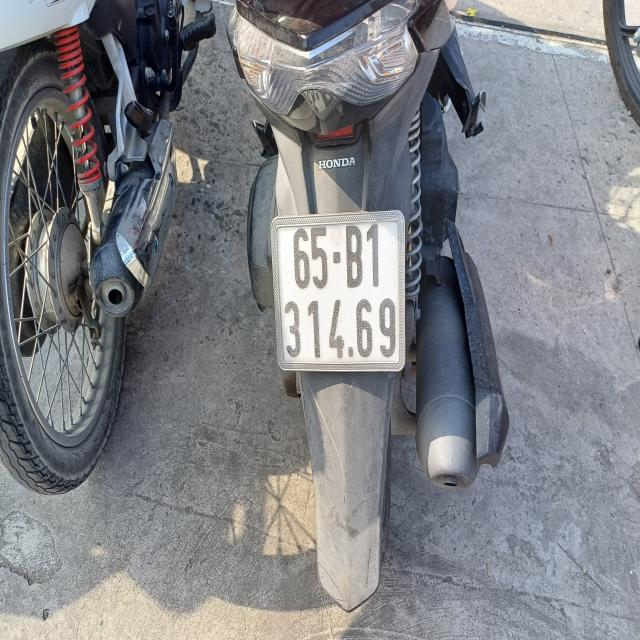1: (365, 220, 380, 288), (308, 296, 322, 358)
3: (282, 297, 304, 357)
4: (328, 303, 344, 361)
5: (311, 226, 329, 288)
6: (353, 294, 373, 358), (292, 224, 311, 288)
9: (377, 296, 396, 366)
B: (344, 223, 365, 290)
